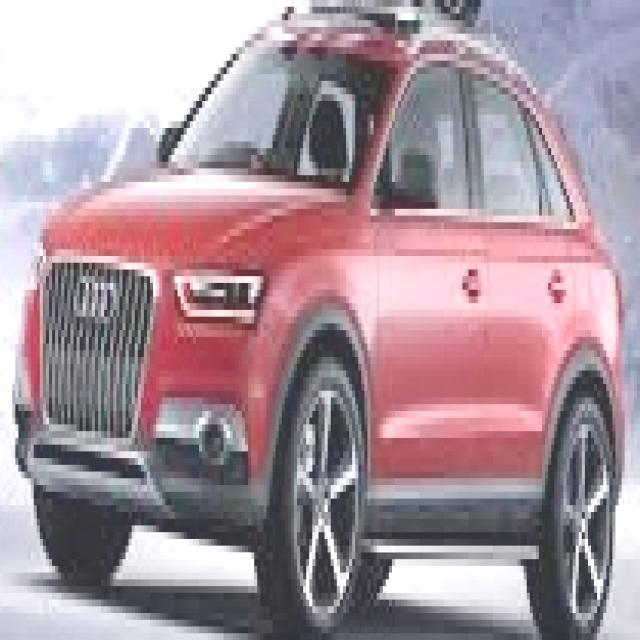maroon: (13, 24, 625, 604)
